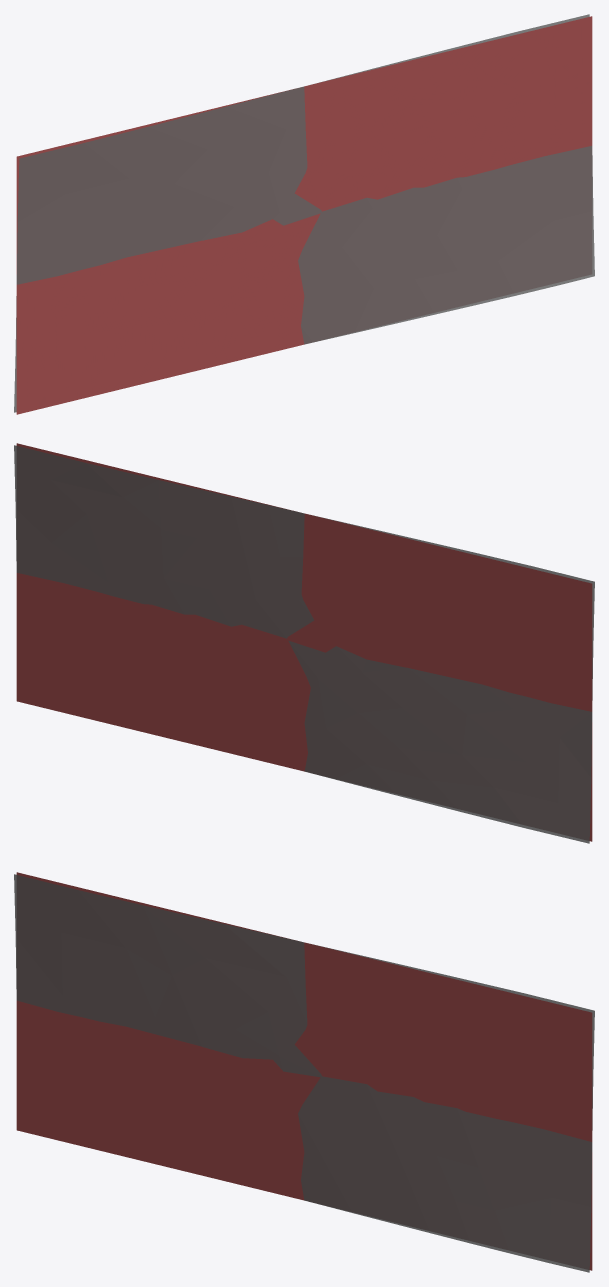
The model's file is warping-rectangle-60-140-86.glb.
3 views of the same model, one above another, from view 1: azimuth 30°, elevation 25°; view 2: azimuth 150°, elevation 25°; view 3: azimuth 330°, elevation 25° (orthographic).
Parts seen in each view (by area): view 1: undeformed cross-section, cross-section with warping; view 2: undeformed cross-section, cross-section with warping; view 3: undeformed cross-section, cross-section with warping.
Part boxes in pixels (x1,y1,x2,y2): undeformed cross-section: (16, 16, 592, 414); cross-section with warping: (14, 14, 594, 412); undeformed cross-section: (16, 443, 592, 841); cross-section with warping: (14, 445, 594, 843); undeformed cross-section: (16, 872, 592, 1270); cross-section with warping: (14, 874, 594, 1272).
Bounding box in the file's own units: 0.14 × 0.06 × 0.00246.
